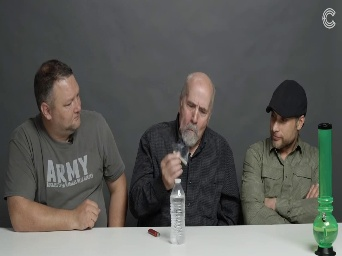smoke: (176, 151, 188, 166)
